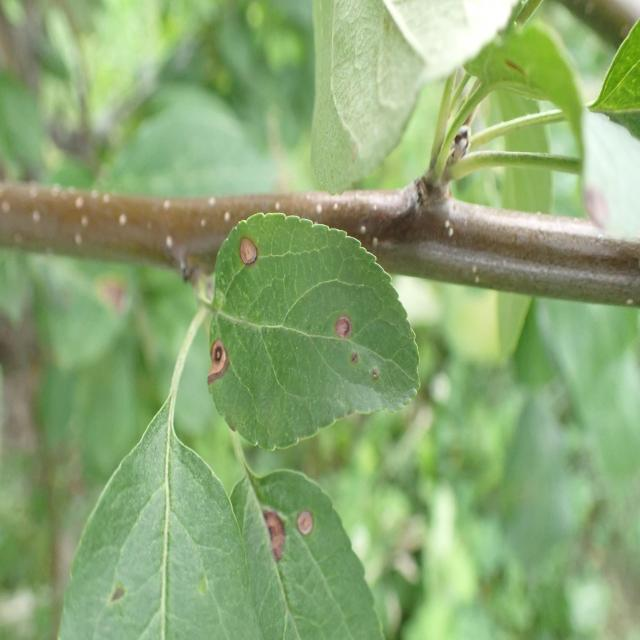Black Rot: (254, 477, 288, 578), (232, 208, 260, 280), (207, 323, 230, 401), (292, 500, 320, 560), (322, 306, 363, 340)
